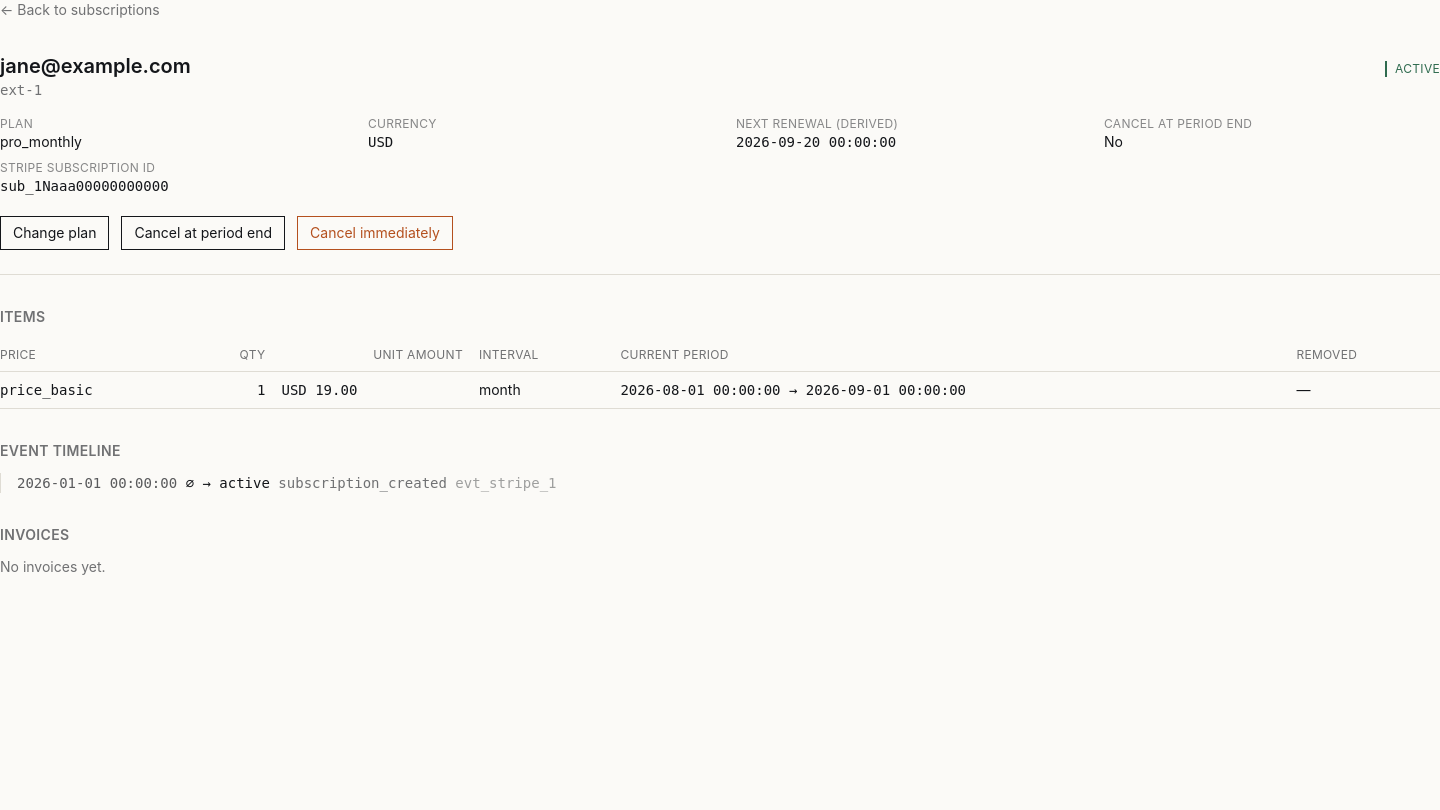
Test: SubscriptionDetailPage cancel confirmation flow › cancel at period end shows access-continues copy and sends { at_period_end: true } on confirm
The width and height of the screenshot is (1440, 810).
Expected: the heading "jane@example.com" is shown, [0,52,191,80]
Click the button "Cancel at period end" at (203, 233), box [121,216,285,250]
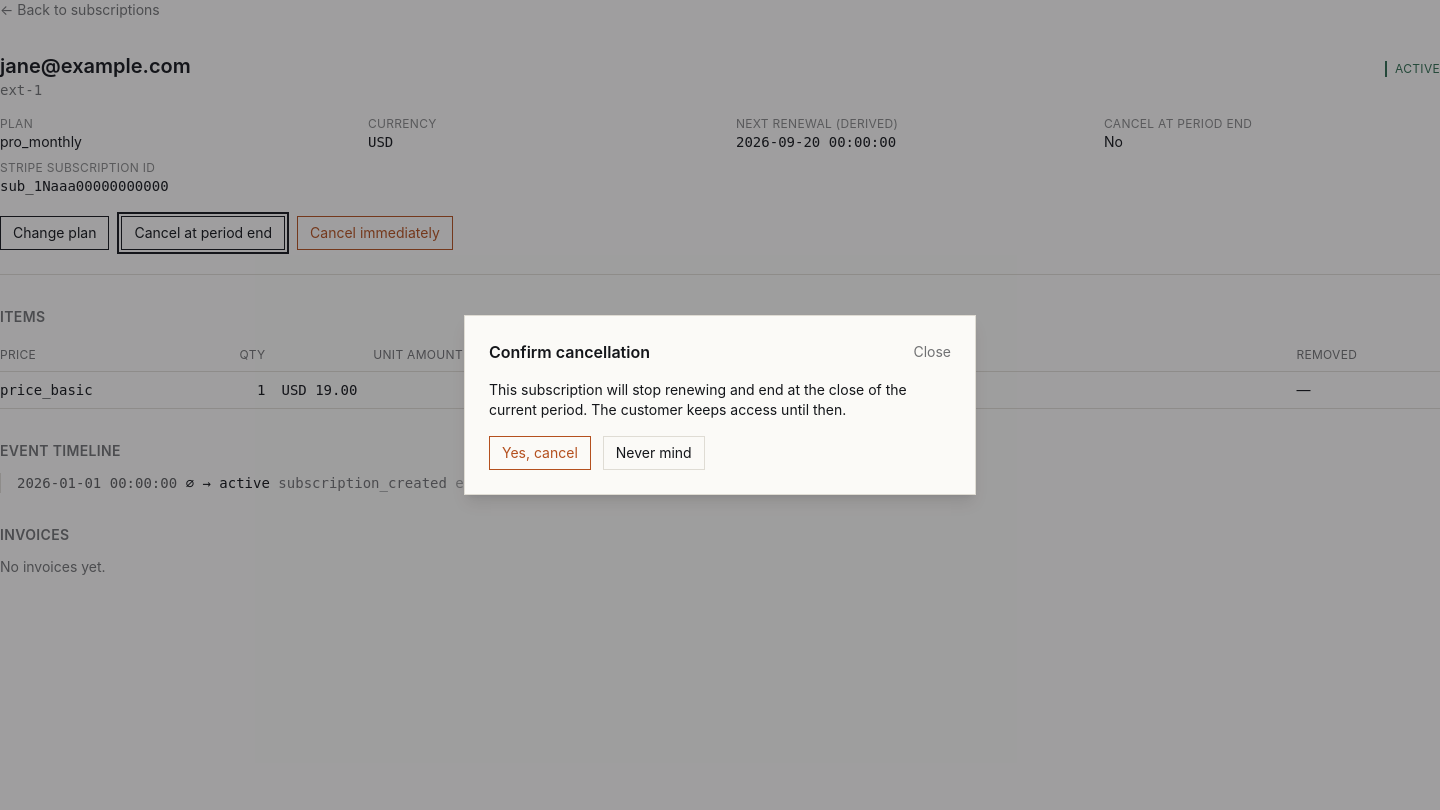
Now the text "keeps access until then" is shown, box [489,381,907,418]
Click the button "Yes, cancel" at (540, 453), box [489,436,591,470]
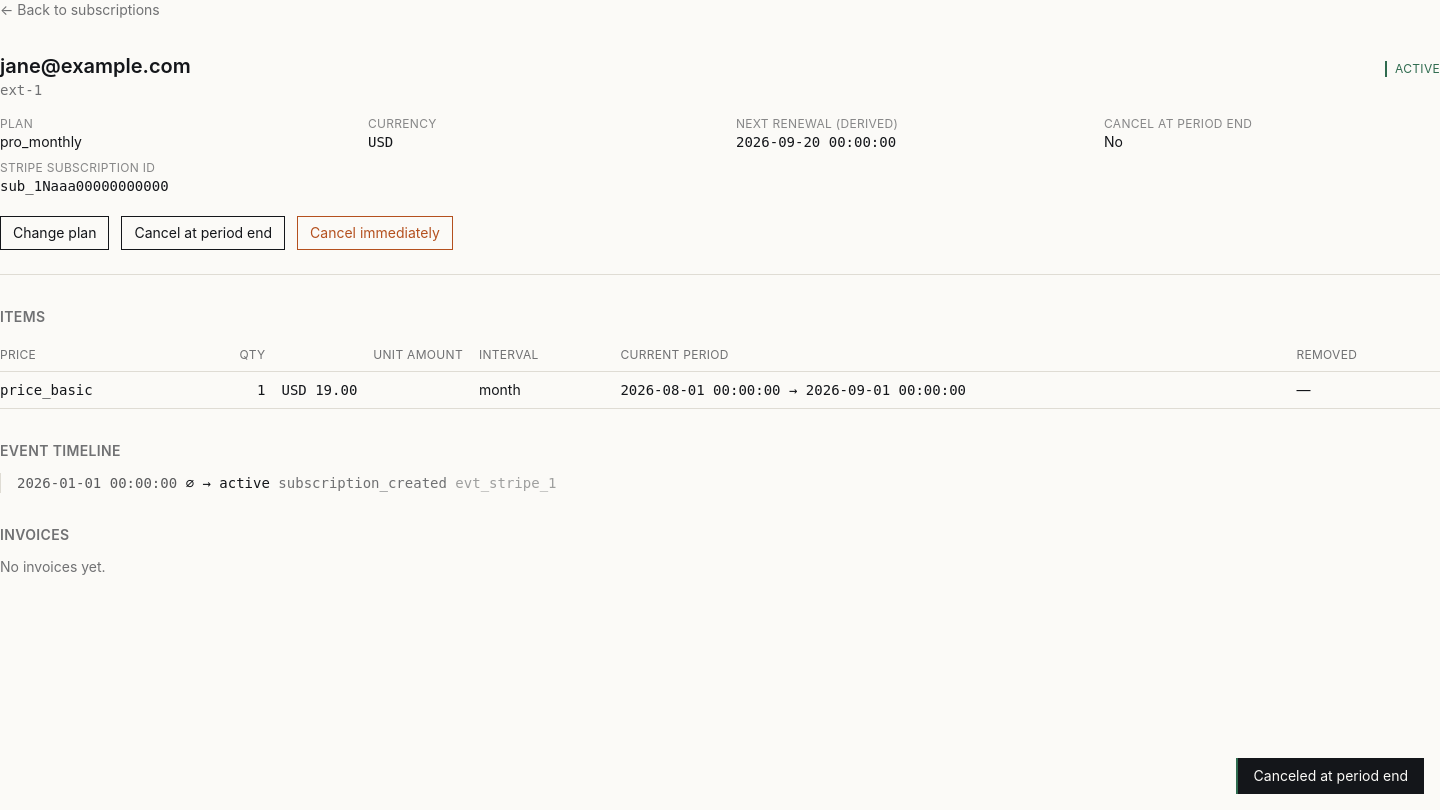
Now the text "Canceled at period end" is shown, box [1236,758,1424,794]
